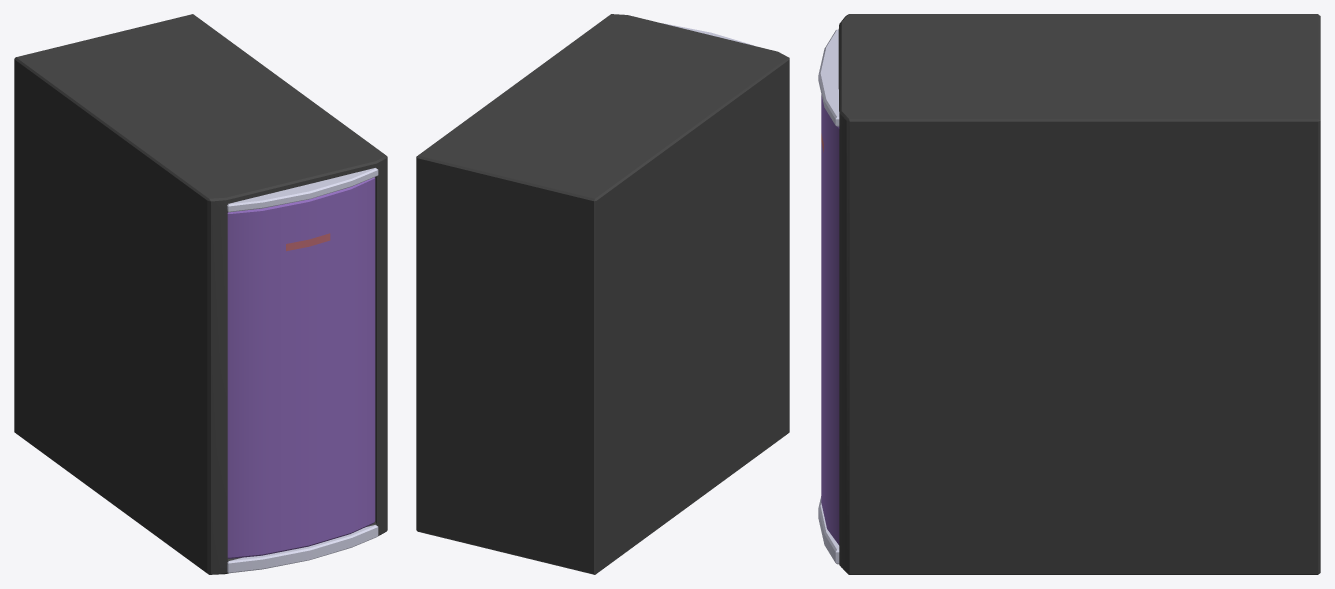
File: SCHT901Wb.FBX
3 views of the same model, side by side, from view 1: azimuth 30°, elevation 25°; view 2: azimuth 150°, elevation 25°; view 3: azimuth 270°, elevation 25° (orthographic). The views are drawn at different scales.
Parts seen in each view (by area): view 1: SCHT901Wb; view 2: SCHT901Wb; view 3: SCHT901Wb.
Part boxes in pixels (x1=…): SCHT901Wb: x1=14, y1=14, x2=387, y2=574; SCHT901Wb: x1=416, y1=14, x2=789, y2=574; SCHT901Wb: x1=818, y1=14, x2=1320, y2=574.
Size of the model in its own units: 20 by 39.8 by 39.9.
